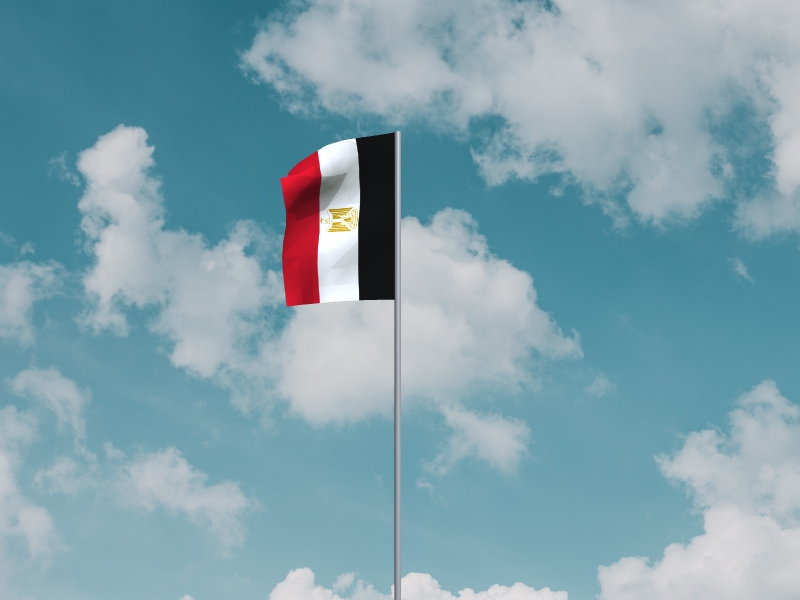eg: (280, 134, 395, 308)
